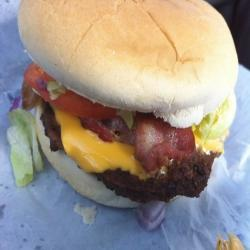burger: (12, 3, 232, 222)
salad: (2, 107, 49, 190), (192, 95, 237, 156)
